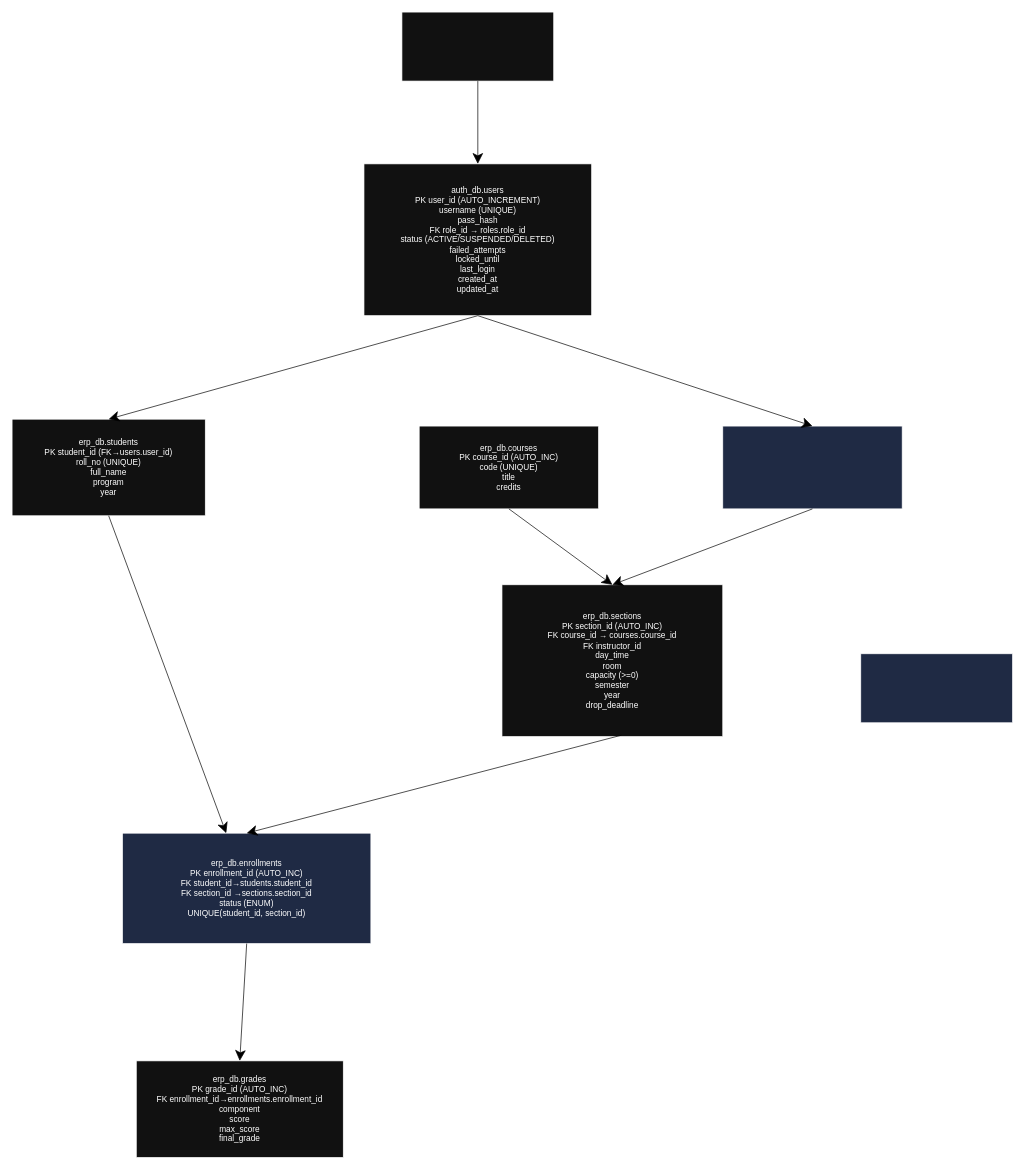
Some shapes in this 1025 by 1170 pixel diagram are drawn without their labels. The shapes that lost their labels are listed below. From the top down, each one's box as (x1, y1, x2, y2) in pixels, then its label:
(401, 11, 554, 81): auth_db.roles PK role_id role_name (UNIQUE)
(722, 425, 902, 509): erp_db.instructors PK instructor_id (FK→users.user_id) full_name department
(860, 653, 1013, 723): erp_db.settings PK key value maintenance_on flag
